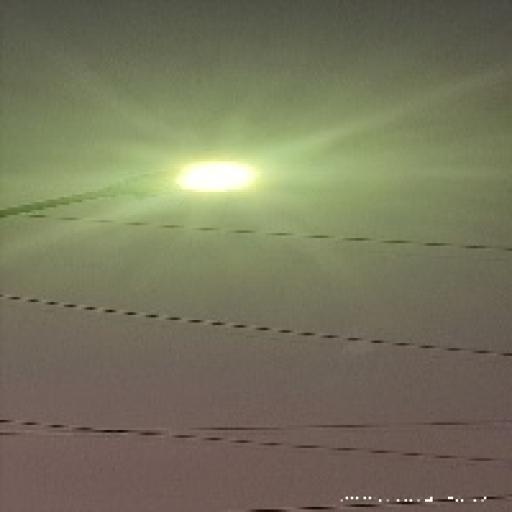Working: (152, 147, 270, 211)
